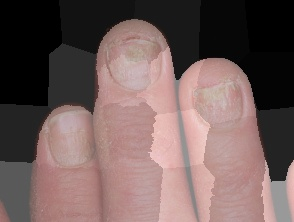Nail_psoriasis: (83, 6, 190, 115), (183, 68, 255, 140), (39, 104, 98, 177)
